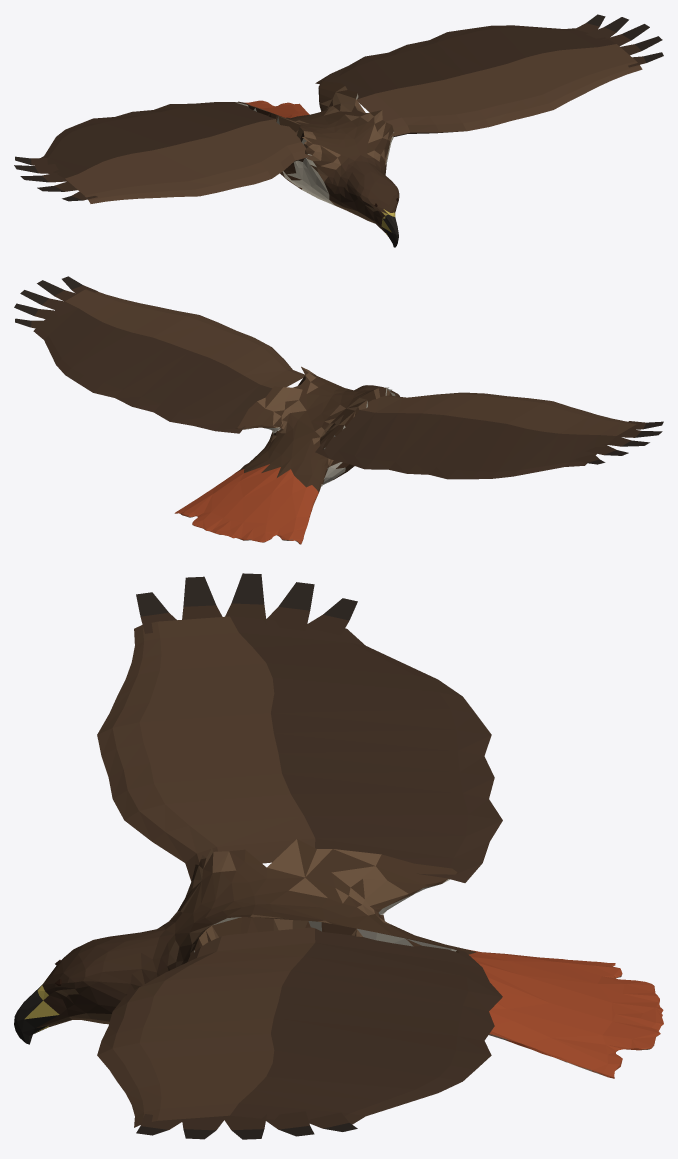
File: redtail.glb
The picture shows the model from 3 angles, top to bottom: view 1: azimuth 30°, elevation 25°; view 2: azimuth 150°, elevation 25°; view 3: azimuth 270°, elevation 25°; orthographic projection. The views are drawn at different scales.
Visible parts, largest first — view 1: lod0; view 2: lod0; view 3: lod0.
Boxes of the visible parts, <box> form: lod0: <box>14,14,663,247</box>; lod0: <box>14,276,663,544</box>; lod0: <box>14,573,663,1139</box>.
Size of what is drawn, in the model's own units: 1.24 by 0.1929 by 0.6023.
